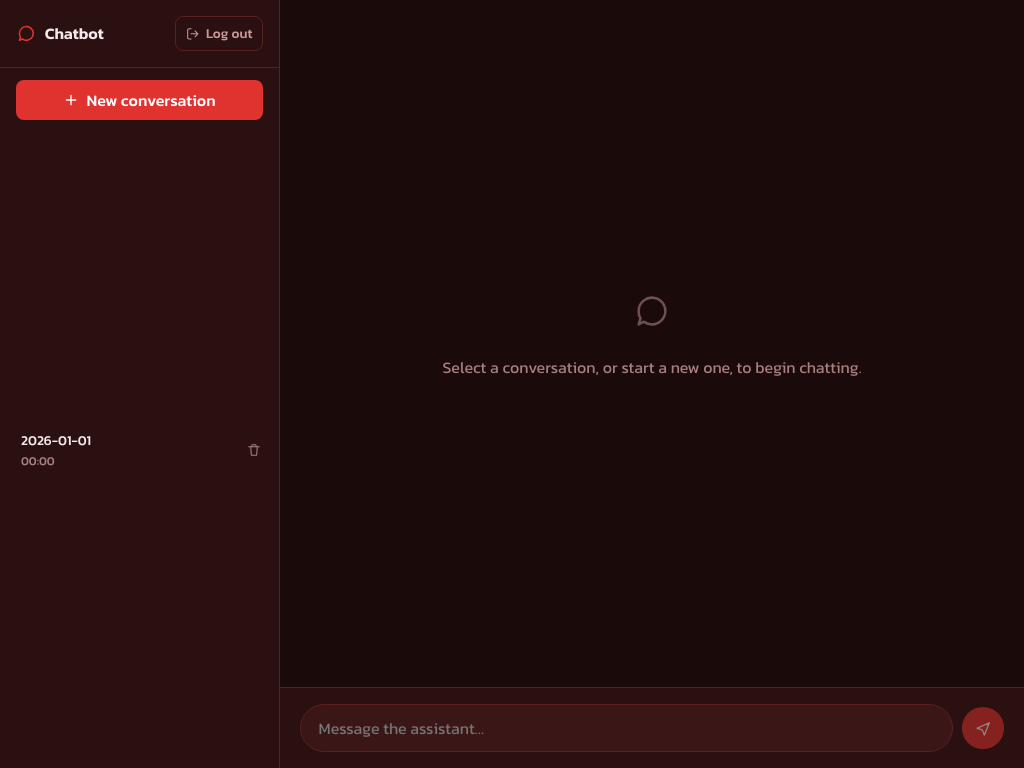
Test: deleting a conversation removes it from the sidebar
Click the button named "delete" at (254, 450), box left=239, top=434, right=269, bottom=465
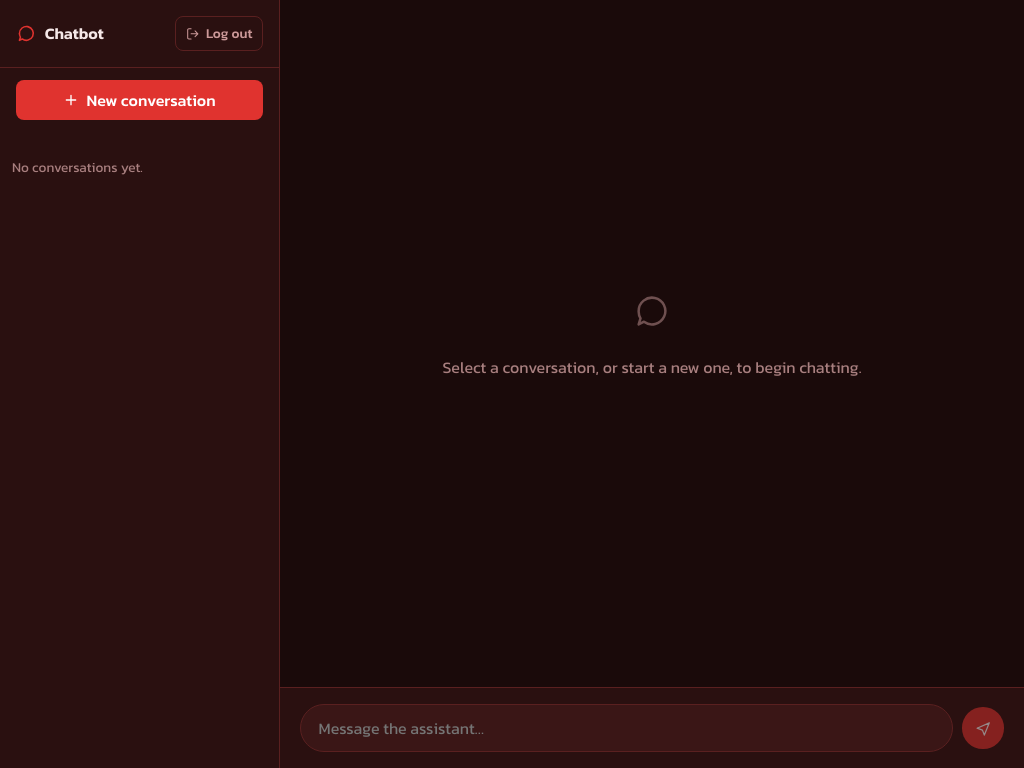
Now the button "2026-01-01" is gone
